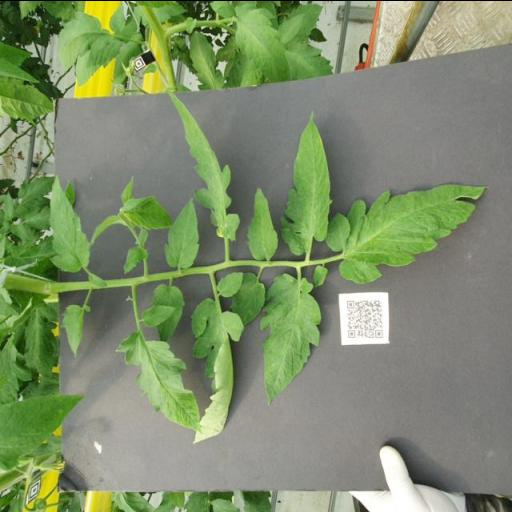Healthy: (326, 184, 490, 284), (166, 86, 240, 240), (114, 330, 202, 433), (260, 272, 322, 403), (190, 297, 244, 444), (49, 173, 90, 271), (165, 197, 200, 268), (246, 186, 278, 259), (60, 302, 91, 358)
